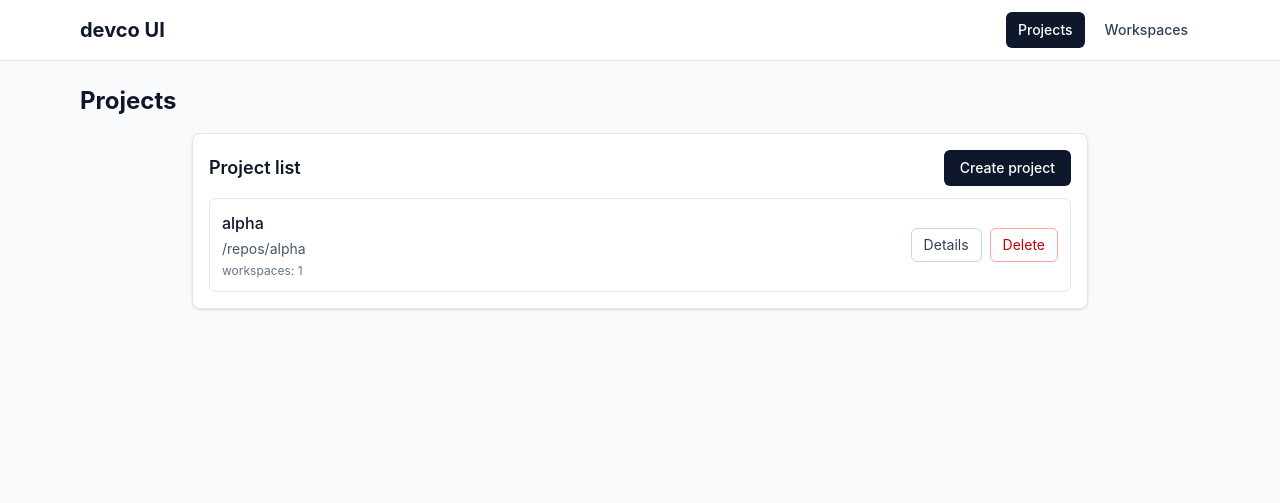
App browser flows › moves to project details when project list item is clicked
Expected: the text "alpha" is shown, [222,213,264,233]
Expected: the list item "/repos/alpha" is shown, [222,240,306,257]
Click the list item "/repos/alpha".
click(640, 245)  # box [209,198,1071,292]
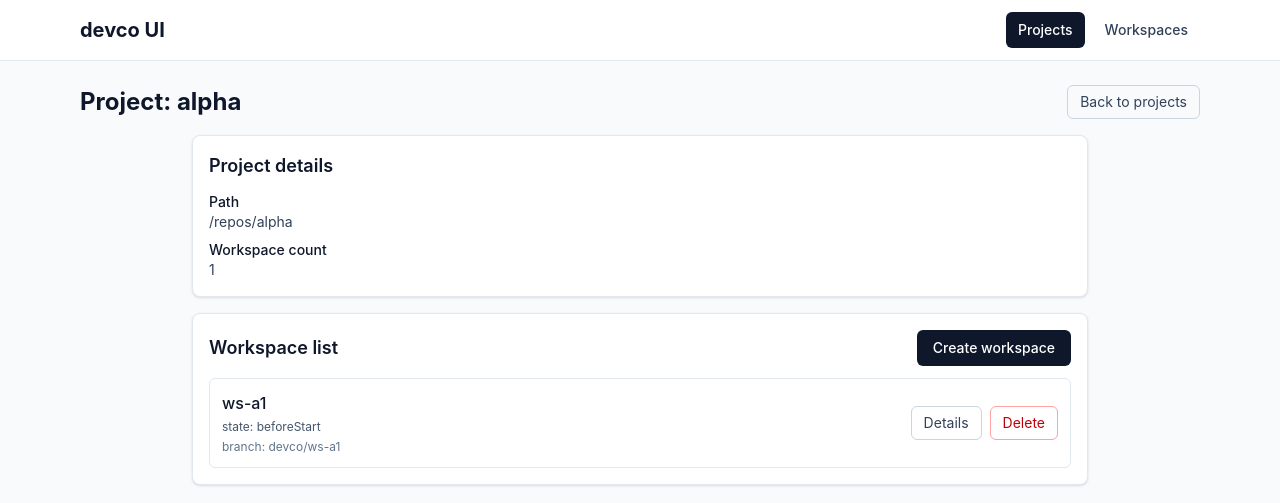
Expected: the heading "Project: alpha" is shown, [80,86,241,118]
